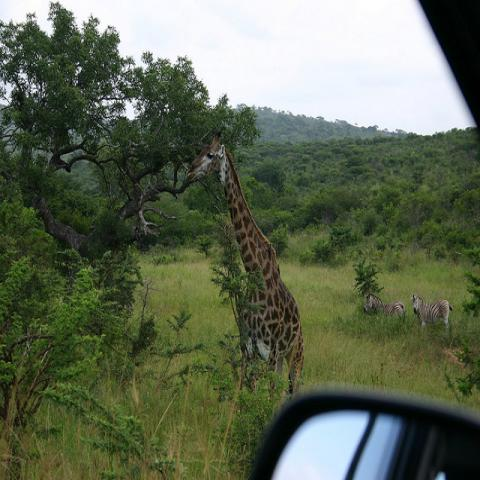car: (248, 388, 479, 480)
